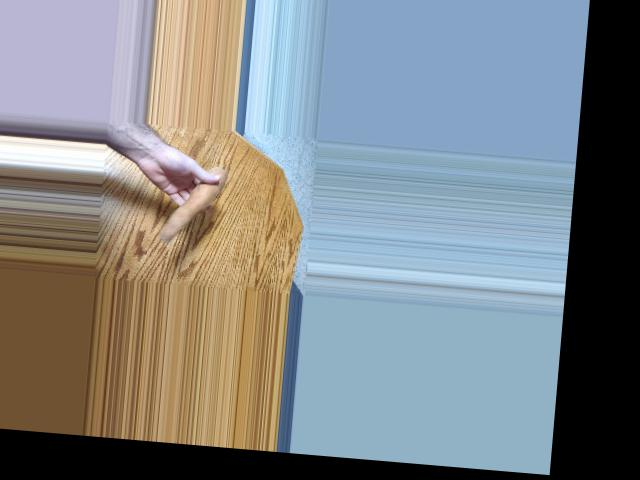sweet_potato: (156, 163, 223, 246)
